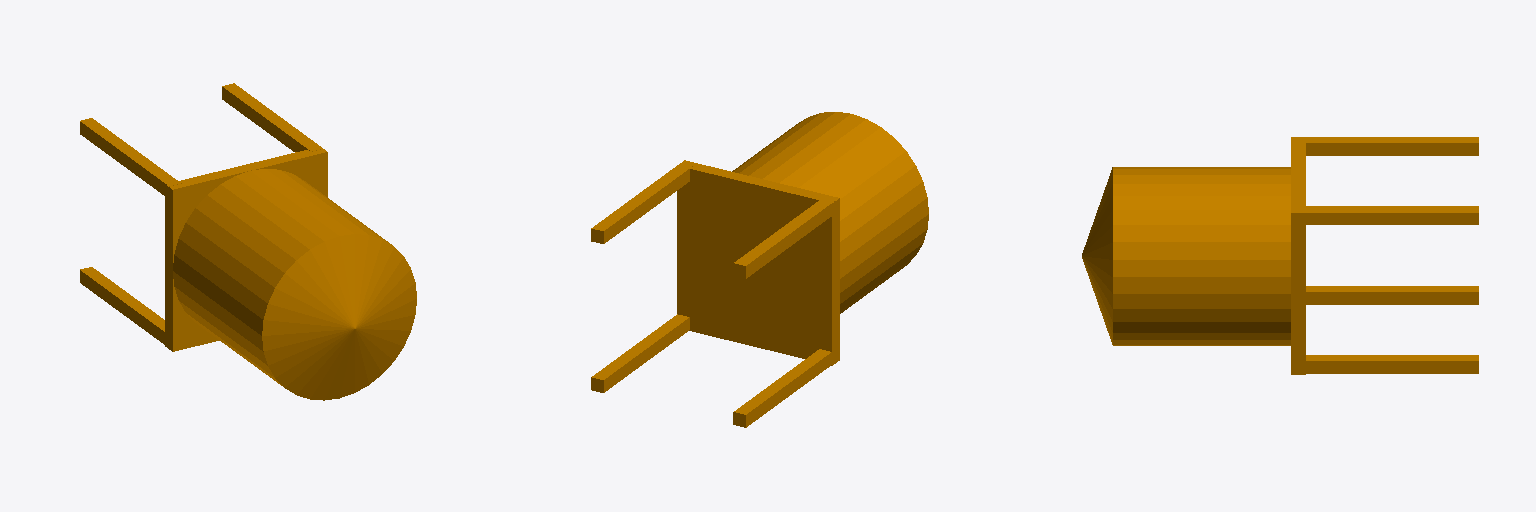
Rendered from depositoNaranja.obj.
The picture shows the model from 3 angles: view 1: azimuth 30°, elevation 25°; view 2: azimuth 150°, elevation 25°; view 3: azimuth 270°, elevation 25°; orthographic projection.
Visible parts, largest first — view 1: Cylinder, Cube, Cube.004, Cube.003, Cube.001; view 2: Cube, Cylinder, Cube.004, Cube.003, Cube.002, Cube.001; view 3: Cylinder, Cube, Cube.003, Cube.004, Cube.002, Cube.001.
Part boxes in pixels (bbox=[...]): Cylinder: bbox=[173, 169, 416, 400]; Cube: bbox=[165, 149, 327, 351]; Cube.004: bbox=[80, 118, 181, 195]; Cube.003: bbox=[222, 83, 322, 151]; Cube.001: bbox=[80, 267, 164, 344]; Cube: bbox=[677, 160, 839, 365]; Cylinder: bbox=[732, 112, 928, 313]; Cube.004: bbox=[733, 198, 834, 278]; Cube.003: bbox=[591, 163, 692, 243]; Cube.002: bbox=[591, 314, 689, 392]; Cube.001: bbox=[733, 349, 831, 427]; Cylinder: bbox=[1082, 167, 1290, 345]; Cube: bbox=[1291, 137, 1305, 374]; Cube.003: bbox=[1299, 206, 1478, 224]; Cube.004: bbox=[1299, 137, 1478, 155]; Cube.002: bbox=[1306, 355, 1478, 373]; Cube.001: bbox=[1306, 286, 1478, 304].
Bounding box in the file's own units: 2 × 2 × 4.43.